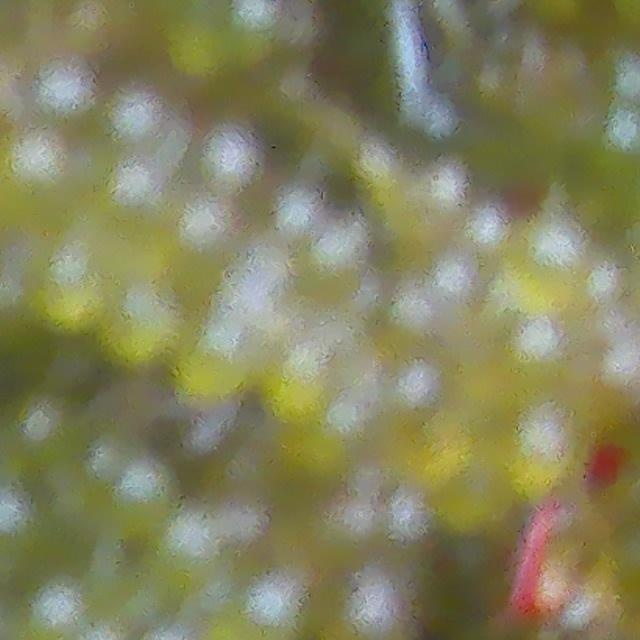SeaGrape: (167, 15, 237, 83)
